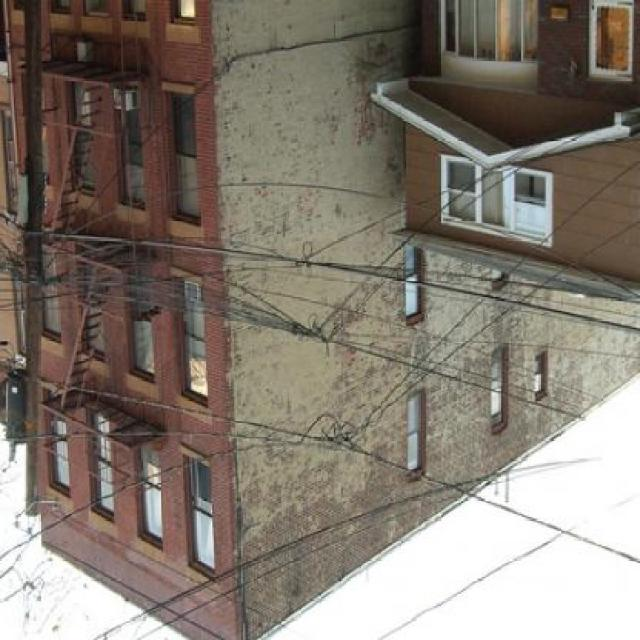pole: (6, 30, 68, 575)
